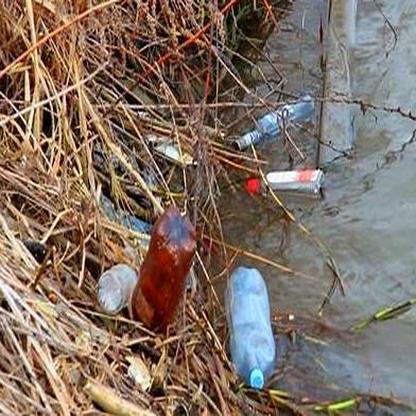plastic bottle: (132, 206, 196, 331), (224, 266, 276, 388), (233, 93, 315, 152), (96, 262, 135, 314)
